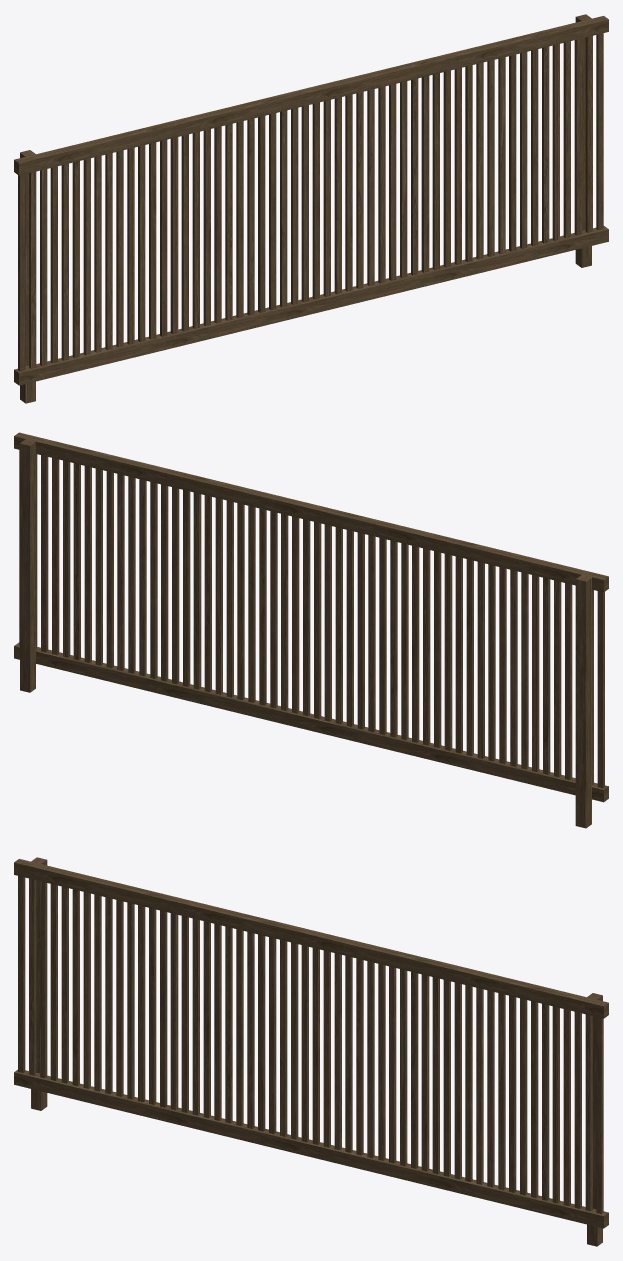
Rendered from EAFtatehosogoushi_w1998-h720_brownebony.fbx.
The picture shows the model from 3 angles, top to bottom: view 1: azimuth 30°, elevation 25°; view 2: azimuth 150°, elevation 25°; view 3: azimuth 330°, elevation 25°; orthographic projection.
Parts seen in each view (by area): view 1: EAFtatehosogoushi_w1998-h720_brownebony; view 2: EAFtatehosogoushi_w1998-h720_brownebony; view 3: EAFtatehosogoushi_w1998-h720_brownebony.
Boxes of the visible parts, x1=… form: EAFtatehosogoushi_w1998-h720_brownebony: x1=14, y1=14, x2=608, y2=403; EAFtatehosogoushi_w1998-h720_brownebony: x1=14, y1=432, x2=608, y2=828; EAFtatehosogoushi_w1998-h720_brownebony: x1=14, y1=857, x2=608, y2=1246.
Bounding box in the file's own units: 200 × 80 × 6.5.
Materials: 1 (1 with a texture image).
